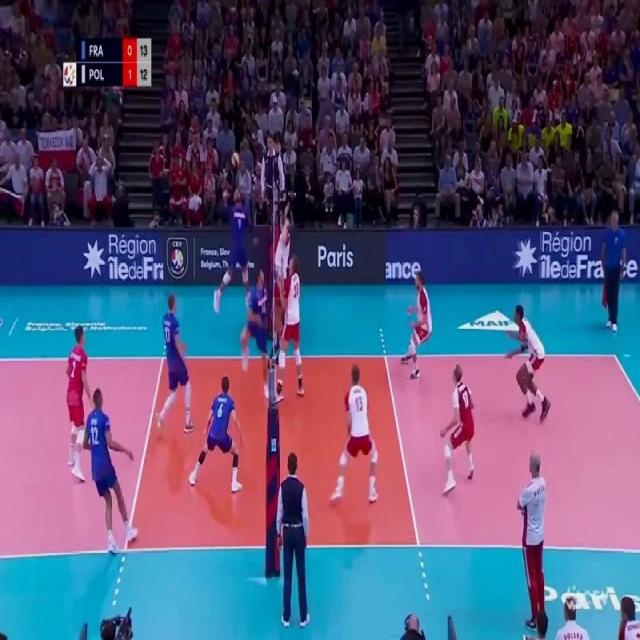volleyball: (231, 151, 240, 167)
